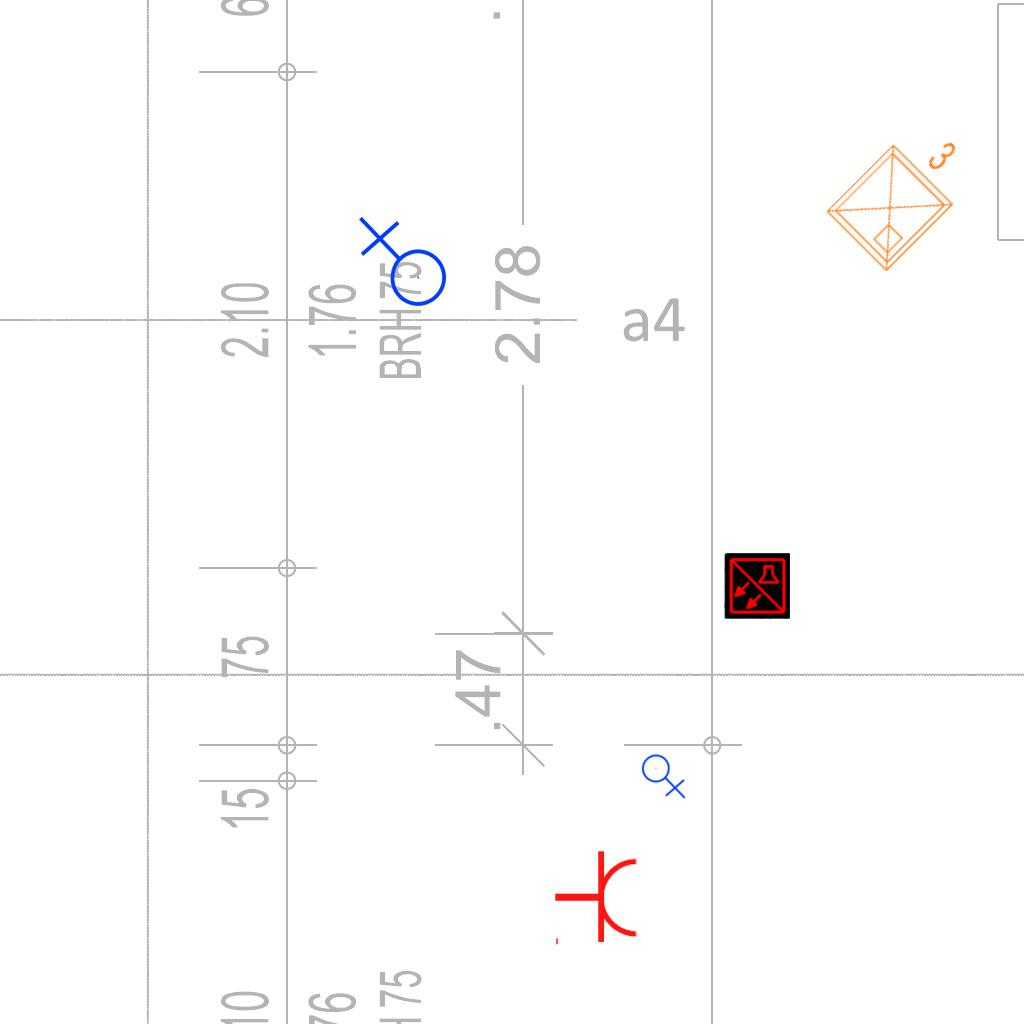Einbaudownlights_LED_Konferenzraeume: (813, 102, 993, 282)
Elektroanschluss_allgemein_230V_Geraeteanschlussdose_230V: (354, 216, 448, 315), (641, 750, 688, 799)
OKW_Multisensormelder_(Kombination_optischer_Rauch-Kahlenmonoxid_Waerme-Melder): (724, 553, 790, 619)
Schukosteckdose_einfach: (553, 849, 640, 949)
